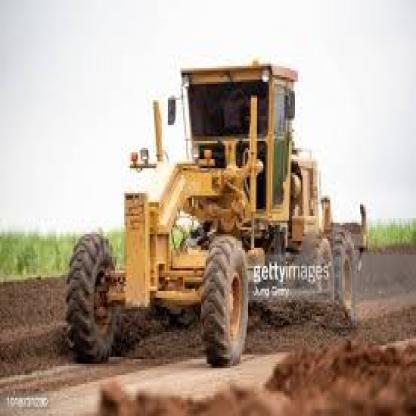bull_dozer/loader/grader: (42, 45, 392, 373)
